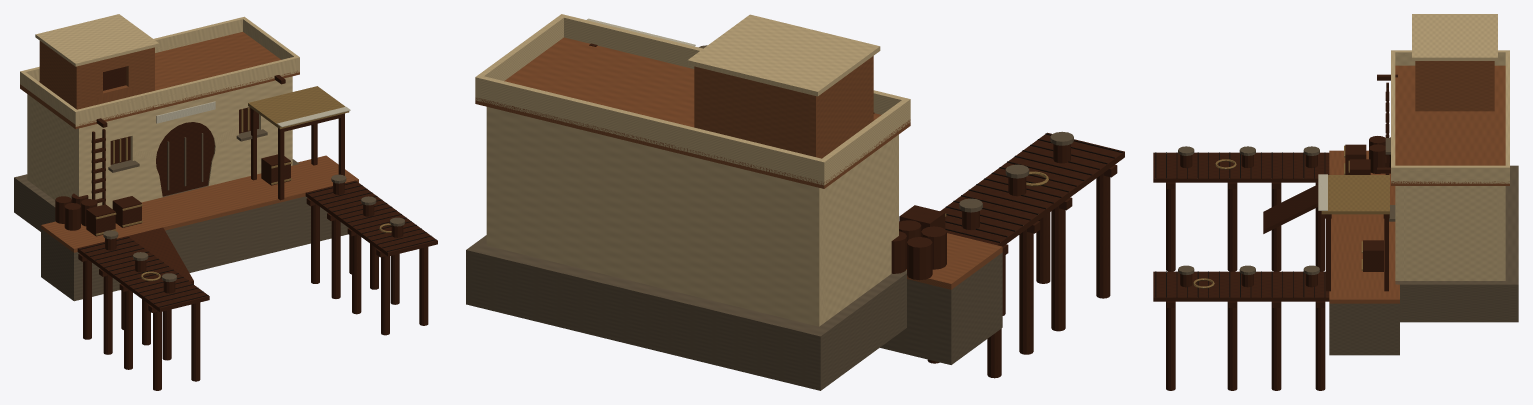
File: Berber_Dock_Age3.fbx
3 views of the same model, side by side, from view 1: azimuth 30°, elevation 25°; view 2: azimuth 150°, elevation 25°; view 3: azimuth 270°, elevation 25° (orthographic). The views are drawn at different scales.
Parts seen in each view (by area): view 1: warehouse_front, quay_foundation, quay_deck, warehouse_roof, upper_roof_storage, east_pier_deck, west_pier_deck, roof_end_parapet, upper_storage_lime_cap, warehouse_side, horseshoe_door, harbour_shade (+31 smaller); view 2: warehouse_back, warehouse_land_plinth, warehouse_roof, upper_roof_storage, warehouse_side, roof_end_parapet.001, upper_storage_lime_cap, west_pier_deck, quay_foundation, roof_end_parapet, roof_side_parapet, quay_deck (+11 smaller); view 3: warehouse_side.001, warehouse_roof, warehouse_land_plinth, quay_deck, east_pier_deck, west_pier_deck, upper_roof_storage, upper_storage_lime_cap, quay_foundation, harbour_shade, roof_side_parapet.001, west_slipway (+20 smaller).
Part boxes in pixels (left/top/right/bottom): warehouse_front: left=74, top=76, right=292, bottom=208; quay_foundation: left=41, top=196, right=348, bottom=301; quay_deck: left=41, top=155, right=358, bottom=252; warehouse_roof: left=20, top=32, right=299, bottom=129; upper_roof_storage: left=39, top=41, right=154, bottom=109; east_pier_deck: left=305, top=180, right=437, bottom=256; west_pier_deck: left=77, top=236, right=209, bottom=311; roof_end_parapet: left=77, top=56, right=296, bottom=125; upper_storage_lime_cap: left=35, top=14, right=159, bottom=66; warehouse_side: left=31, top=97, right=74, bottom=200; horseshoe_door: left=156, top=122, right=214, bottom=196; harbour_shade: left=248, top=86, right=349, bottom=129; warehouse_back: left=486, top=107, right=825, bottom=326; warehouse_land_plinth: left=466, top=235, right=906, bottom=390; warehouse_roof: left=475, top=37, right=910, bottom=188; upper_roof_storage: left=694, top=56, right=873, bottom=158; warehouse_side: left=825, top=139, right=892, bottom=321; roof_end_parapet.001: left=480, top=76, right=821, bottom=183; upper_storage_lime_cap: left=687, top=14, right=880, bottom=96; west_pier_deck: left=940, top=132, right=1124, bottom=246; quay_foundation: left=880, top=252, right=1002, bottom=364; roof_end_parapet: left=564, top=15, right=904, bottom=114; roof_side_parapet: left=818, top=98, right=910, bottom=185; quay_deck: left=899, top=221, right=1002, bottom=289; warehouse_side.001: left=1404, top=186, right=1496, bottom=280; warehouse_roof: left=1391, top=65, right=1509, bottom=185; warehouse_land_plinth: left=1395, top=165, right=1518, bottom=322; quay_deck: left=1329, top=150, right=1399, bottom=303; east_pier_deck: left=1153, top=271, right=1329, bottom=301; west_pier_deck: left=1153, top=152, right=1329, bottom=182; upper_roof_storage: left=1415, top=61, right=1494, bottom=111; upper_storage_lime_cap: left=1412, top=14, right=1497, bottom=60; quay_foundation: left=1329, top=303, right=1399, bottom=355; harbour_shade: left=1321, top=175, right=1389, bottom=214; roof_side_parapet.001: left=1391, top=165, right=1509, bottom=183; west_slipway: left=1263, top=185, right=1318, bottom=233.
Size of the model in its own units: 800 by 631 by 830.
Materials: 7 (7 with a texture image).
